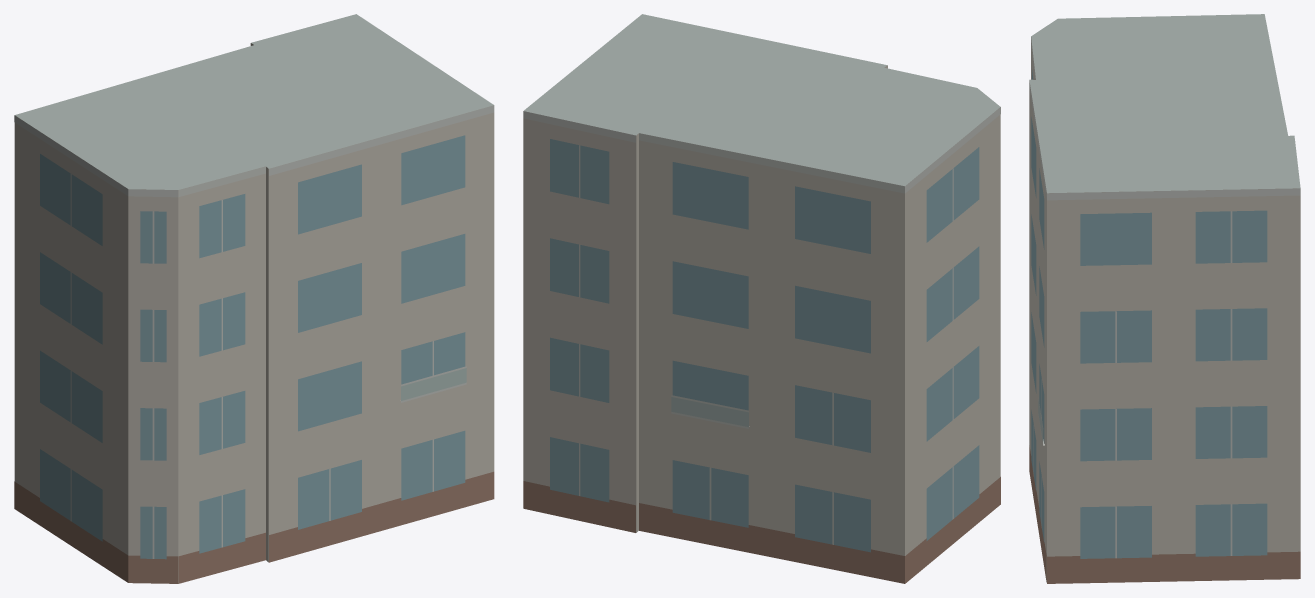
Rendered from survey-upis-32470175.glb.
3 views of the same model, side by side, from view 1: azimuth 30°, elevation 25°; view 2: azimuth 150°, elevation 25°; view 3: azimuth 270°, elevation 25° (orthographic).
Visible parts, largest first — view 1: survey-upis-32470175.tmp; view 2: survey-upis-32470175.tmp; view 3: survey-upis-32470175.tmp.
Boxes of the visible parts, left/top/right/bottom form: survey-upis-32470175.tmp: left=14, top=14, right=494, bottom=583; survey-upis-32470175.tmp: left=523, top=14, right=1000, bottom=583; survey-upis-32470175.tmp: left=1029, top=14, right=1300, bottom=583.
Bounding box in the file's own units: 13.04 × 13.25 × 8.35.
